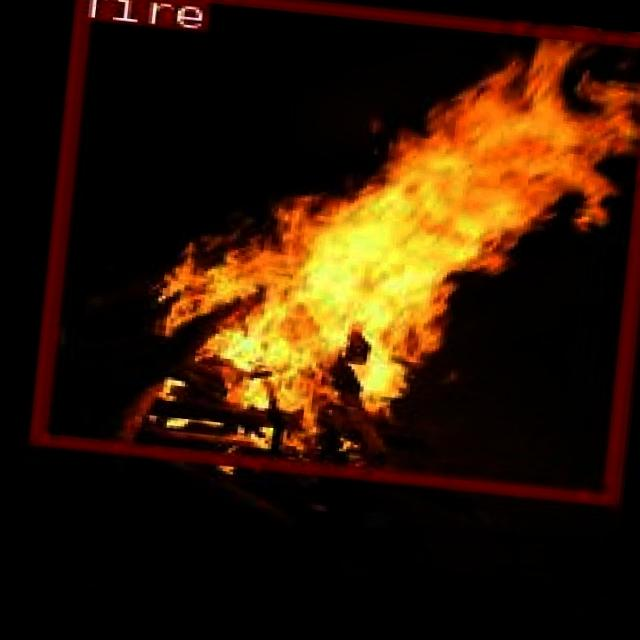fire: (27, 0, 640, 503)
